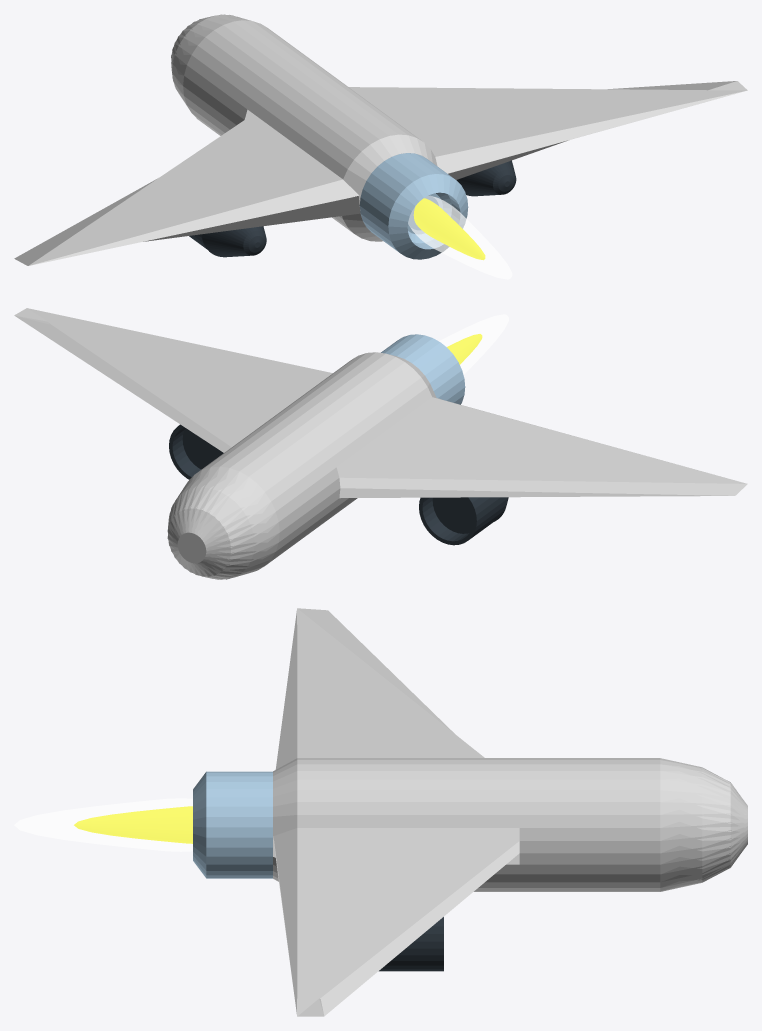
File: jet.glb
3 renders of one model, top to bottom at view 1: azimuth 30°, elevation 25°; view 2: azimuth 150°, elevation 25°; view 3: azimuth 270°, elevation 25°, orthographic. The views are drawn at different scales.
Parts seen in each view (by area): view 1: 球.001; view 2: 球.001; view 3: 球.001.
Boxes of the visible parts, x1,y1,x2,y2 form: 球.001: (14,14,747,279); 球.001: (14,308,747,579); 球.001: (14,608,747,1016).
Bounding box in the file's own units: 7.23 × 1.09 × 5.48.
